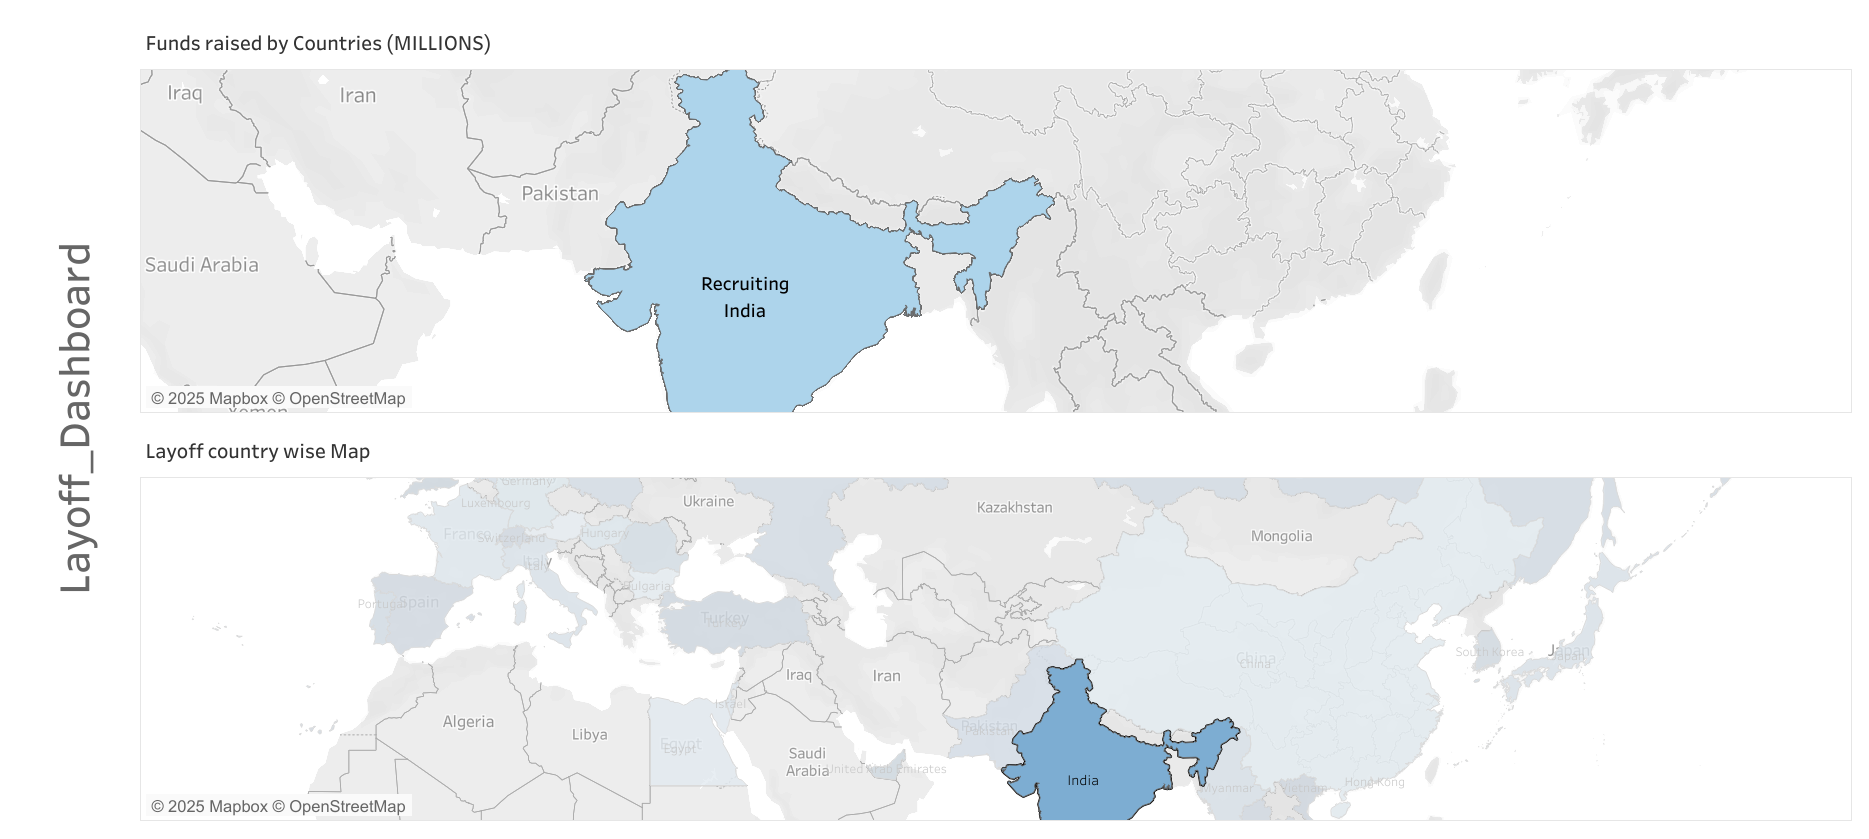

The page's visual inventory and layout, read from the dashboard file:
{"tool":"tableau","page":{"name":"Dashboard 1","canvas":[1000,1000],"units":"permille","ordinal":0},"visuals":[{"type":"text","box":[5,10.7,65.5,978.6]},{"type":"worksheet","title":"Sheet 3","mark":"Automatic","box":[70.5,10.7,924.6,489.3]},{"type":"worksheet","title":"Sheet 2","mark":"Multipolygon","box":[70.5,500,924.6,489.3]}]}

Visuals, with their boxes on the dashboard's canvas, which has no fixed pixel size, in thousandths of its width and height (x1, y1, x2, y2). These are canvas units, not pixel positions in the 1869x839 screenshot, which may show the page scaled, cropped or inside an application window:
text: {"left": 5, "top": 11, "right": 70, "bottom": 989}
"Sheet 3" worksheet: {"left": 70, "top": 11, "right": 995, "bottom": 500}
"Sheet 2" worksheet (Multipolygon marks): {"left": 70, "top": 500, "right": 995, "bottom": 989}
